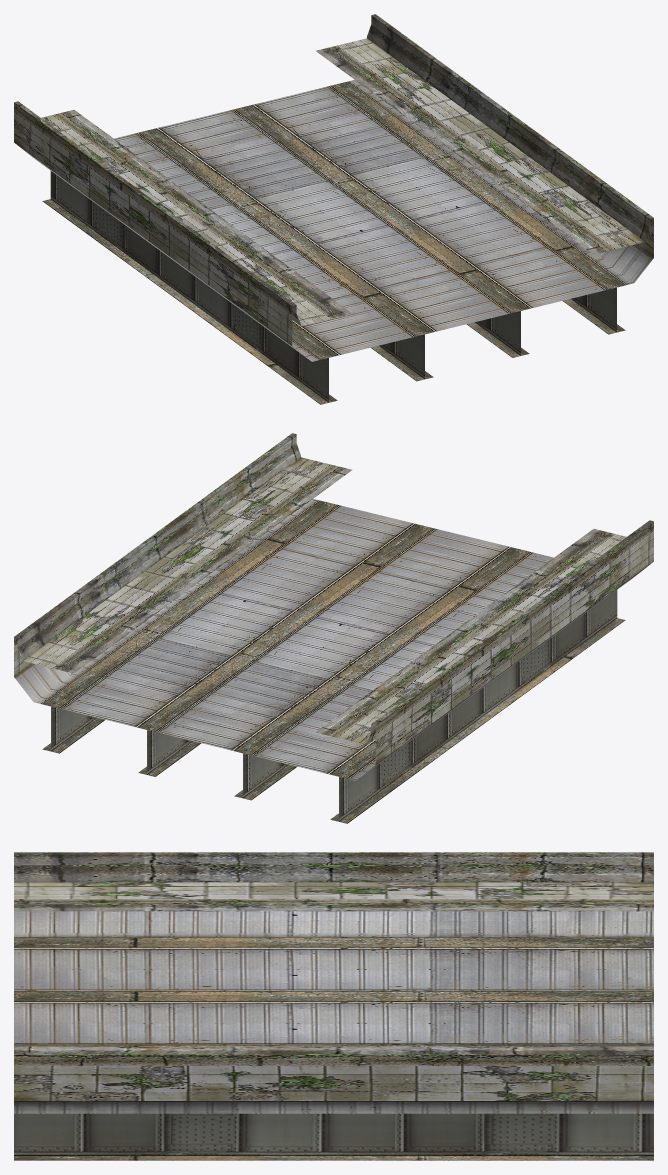
File: qiao.FBX
3 renders of one model, top to bottom at view 1: azimuth 30°, elevation 25°; view 2: azimuth 150°, elevation 25°; view 3: azimuth 270°, elevation 25°, orthographic. The views are drawn at different scales.
Parts seen in each view (by area): view 1: Bridge-28m, bian; view 2: Bridge-28m, bian; view 3: Bridge-28m, bian.
Boxes of the visible parts, x1,y1,x2,y2 form: Bridge-28m: (17,80,653,404); bian: (14,14,653,345); Bridge-28m: (14,499,650,823); bian: (14,433,653,764); Bridge-28m: (14,911,653,1160); bian: (14,852,653,1101).
Size of the model in its own units: 2100 by 587 by 2800.
